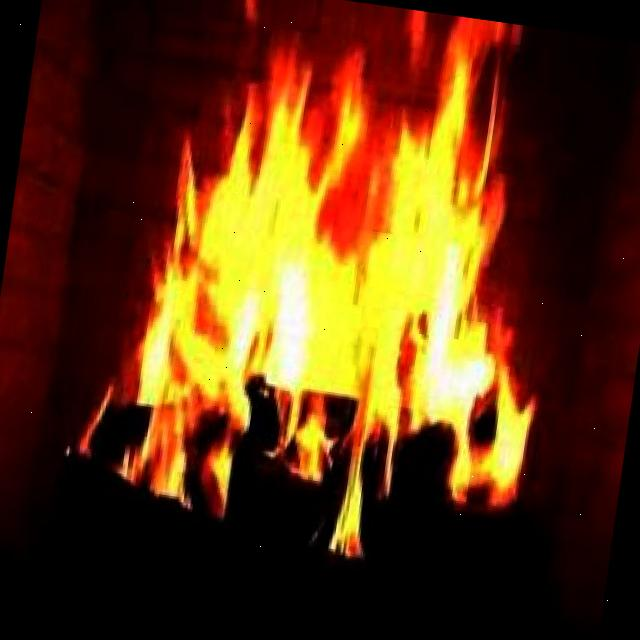fire: (132, 0, 523, 475)
